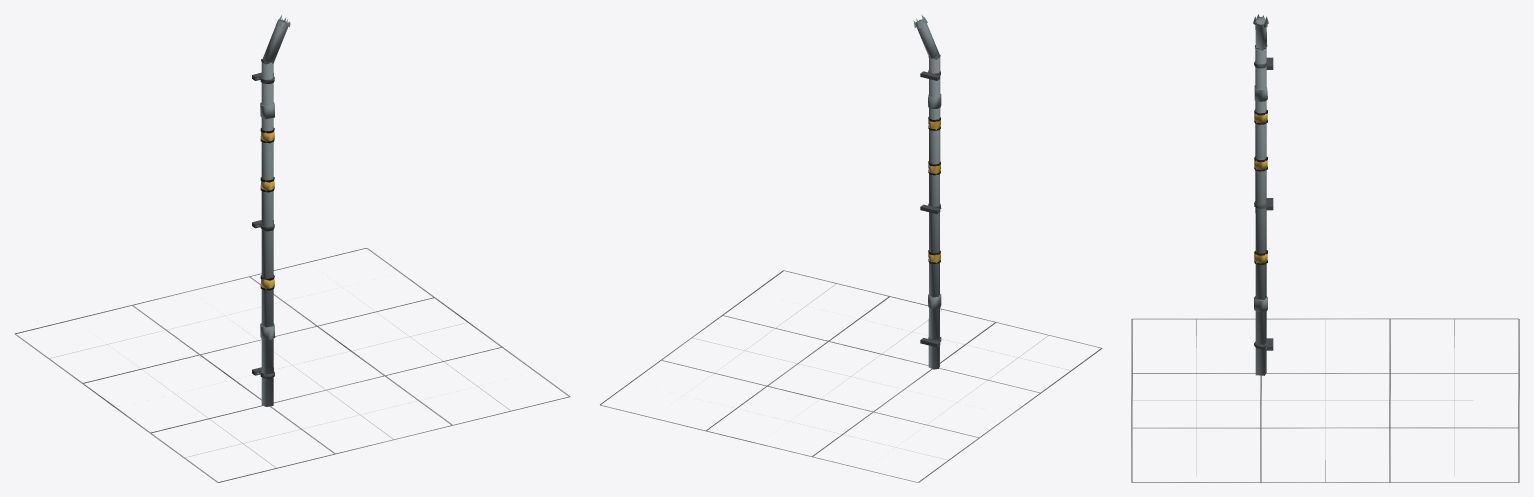
File: ong_gay.glb
The picture shows the model from 3 angles, left to right: view 1: azimuth 30°, elevation 25°; view 2: azimuth 150°, elevation 25°; view 3: azimuth 270°, elevation 25°; orthographic projection. The views are drawn at different scales.
Parts seen in each view (by area): view 1: w_vach_bam, w_ong, w_dau_gay; view 2: w_vach_bam, w_ong; view 3: w_vach_bam, w_ong, w_kep, w_dau_gay.
Part boxes in pixels (box(x1,y1,x2,y2)): w_vach_bam: box(14, 127, 570, 482); w_ong: box(260, 62, 275, 406); w_dau_gay: box(261, 15, 290, 64); w_vach_bam: box(600, 117, 1102, 482); w_ong: box(928, 57, 941, 369); w_vach_bam: box(1131, 109, 1519, 482); w_ong: box(1254, 47, 1267, 375); w_kep: box(1254, 57, 1273, 350); w_dau_gay: box(1253, 14, 1268, 50).
Bounding box in the file's own units: 3.01 × 3.13 × 3.01.
